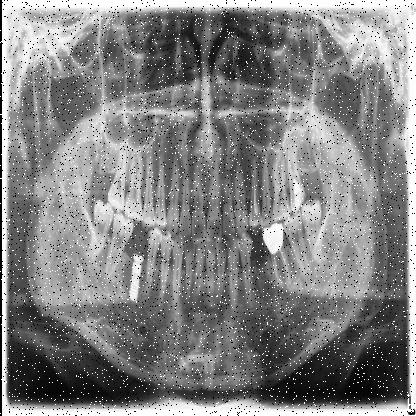ITI: (124, 258, 141, 305)
